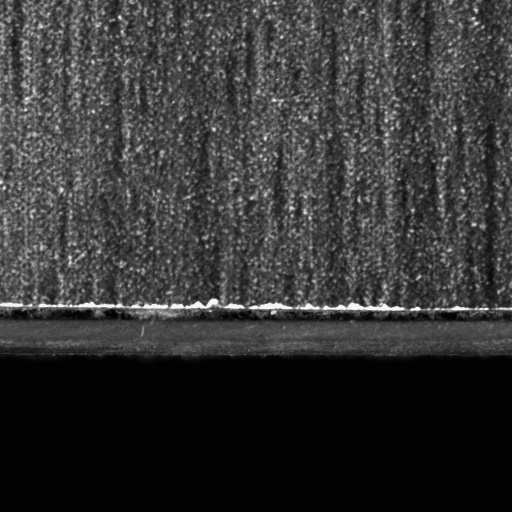kaijiao: (0, 297, 511, 363)
